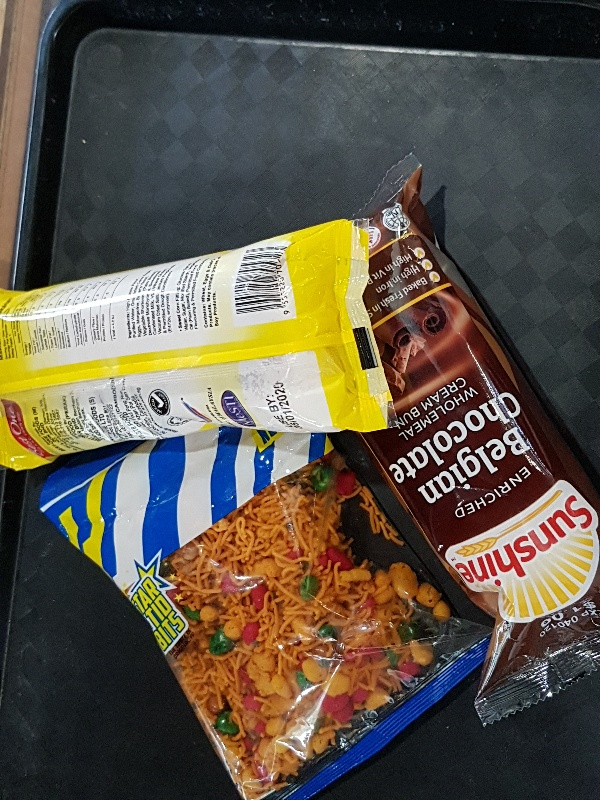Star Tidbits Mixer: (40, 430, 487, 800)
Sunshine Belgium Chocolate Wholemeal Cream Bun: (341, 151, 600, 727)
Tinges Roll Sweet Corn: (1, 218, 392, 472)
